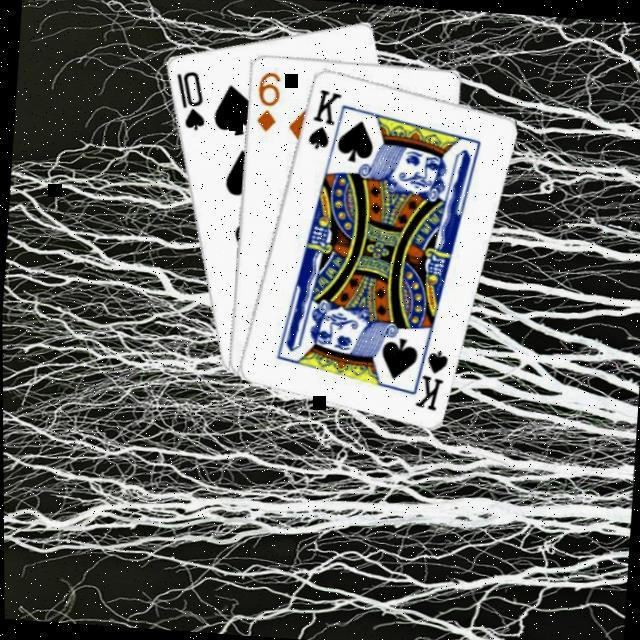10S: (167, 67, 208, 134)
6D: (249, 67, 281, 135)
KS: (404, 337, 450, 414), (301, 85, 342, 154)
